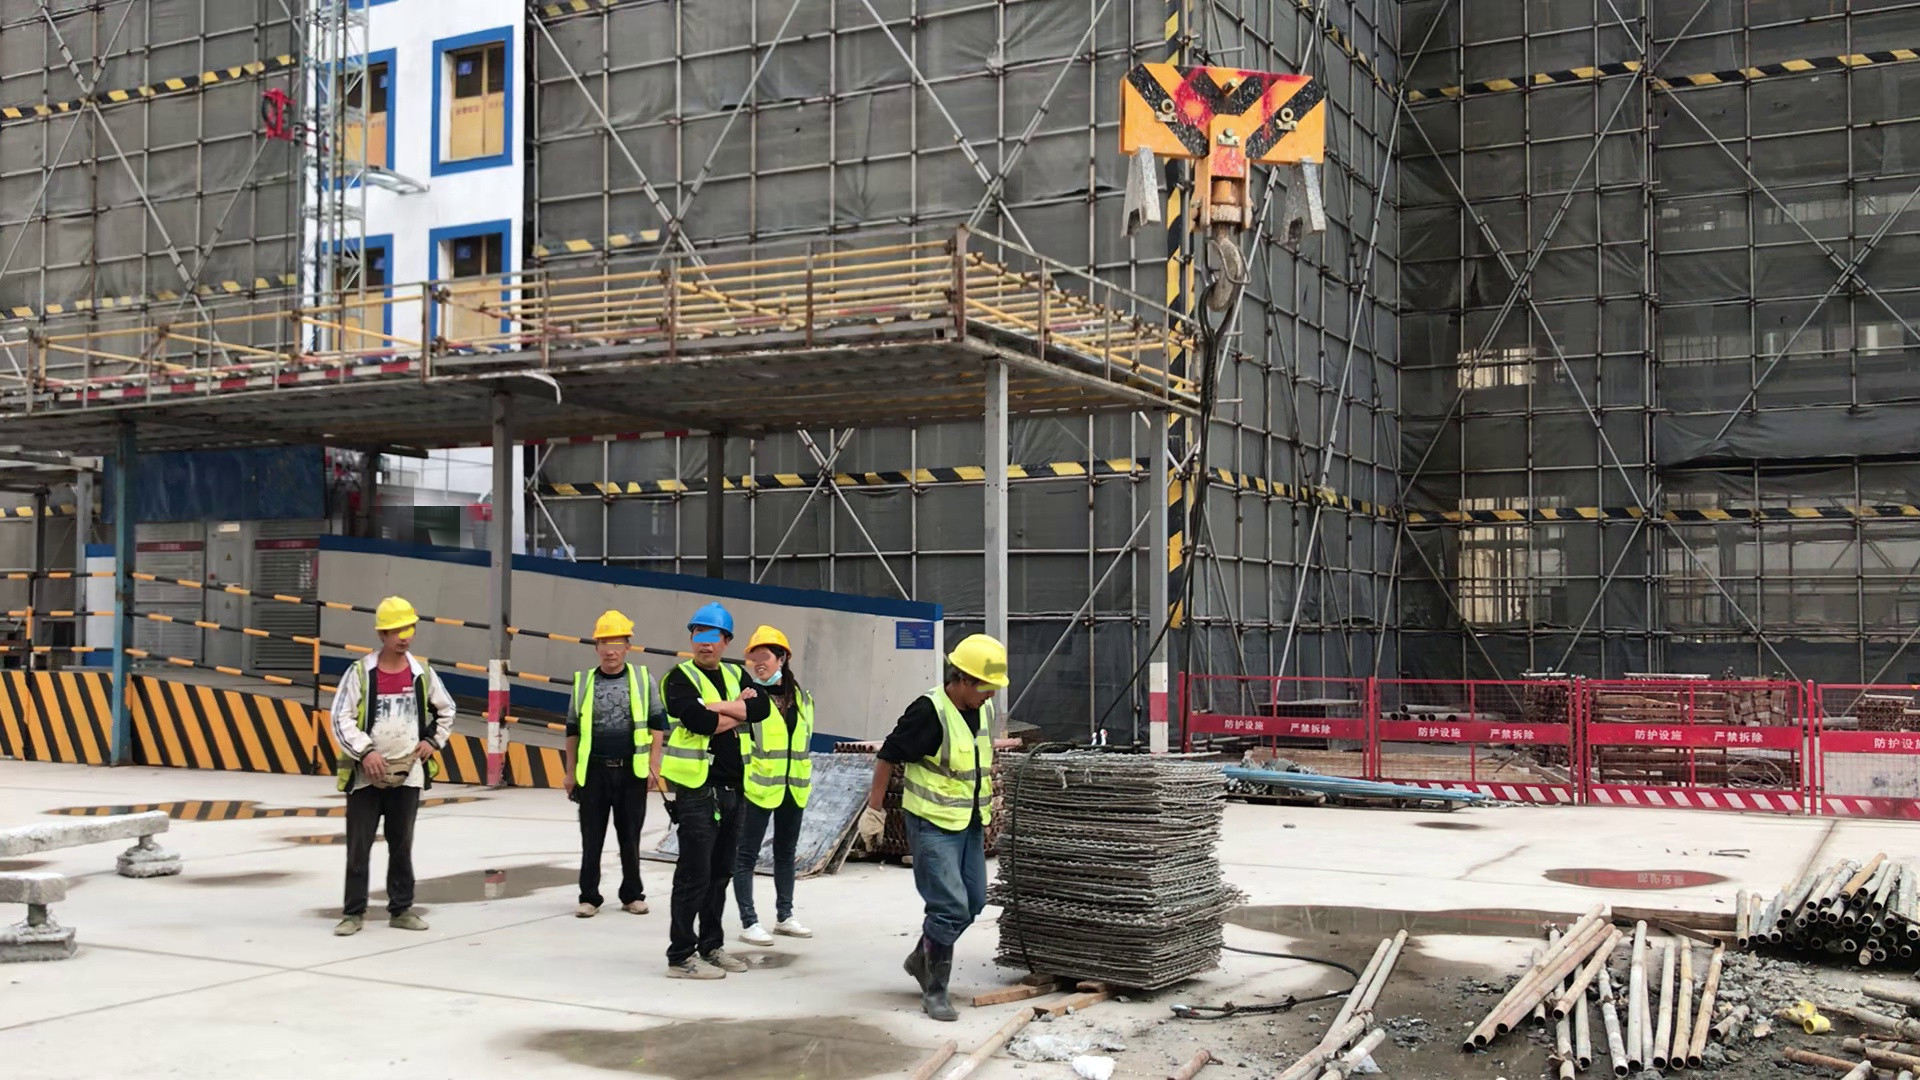fence: (31, 558, 815, 837), (1178, 653, 1920, 829)
helmet: (942, 629, 1013, 691), (588, 605, 639, 644), (374, 593, 422, 633), (686, 604, 736, 640), (746, 623, 798, 650)
hook: (1097, 37, 1339, 321)
person: (862, 622, 1010, 1025), (333, 589, 440, 940), (665, 591, 754, 993), (562, 595, 655, 928), (740, 613, 814, 948)
scaffold: (1473, 907, 1728, 1080), (1737, 856, 1920, 978)
vest: (342, 643, 439, 795), (907, 678, 999, 836), (661, 652, 755, 801), (562, 657, 660, 789), (749, 673, 811, 805)
